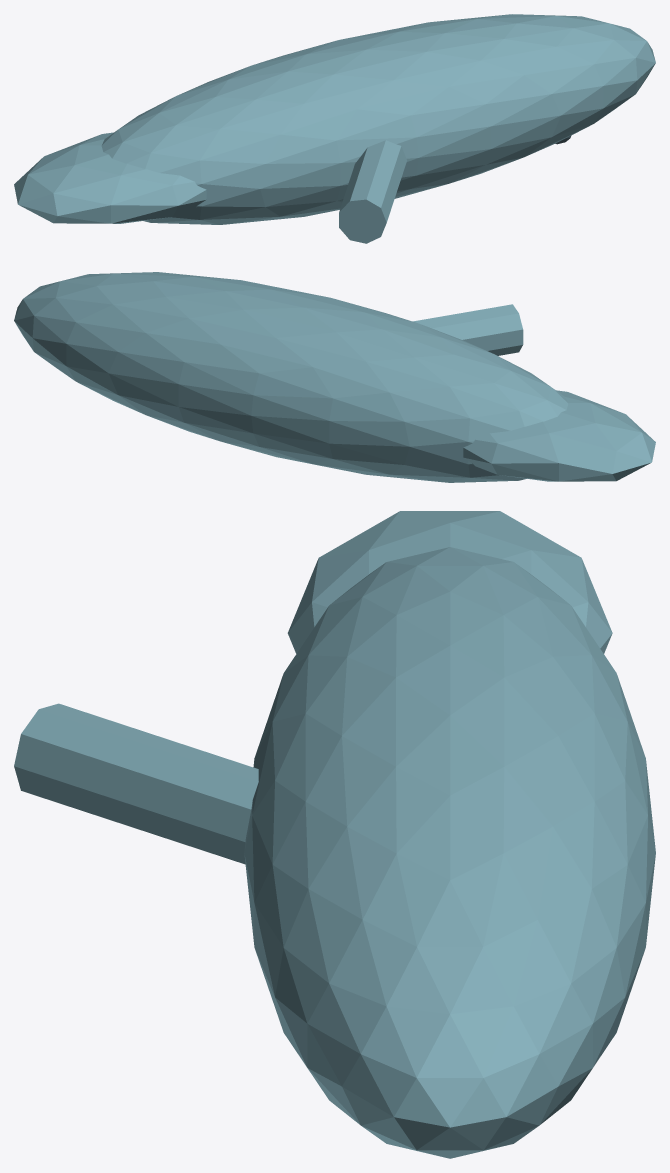
Rendered from trout.glb.
3 views of the same model, one above another, from view 1: azimuth 30°, elevation 25°; view 2: azimuth 150°, elevation 25°; view 3: azimuth 270°, elevation 25° (orthographic). The views are drawn at different scales.
Parts seen in each view (by area): view 1: world; view 2: world; view 3: world.
Part boxes in pixels (left/top/right/bottom): world: left=14, top=14, right=655, bottom=243; world: left=14, top=272, right=655, bottom=482; world: left=14, top=511, right=655, bottom=1158.
Size of the model in its own units: 2.66 by 0.56 by 1.19.
